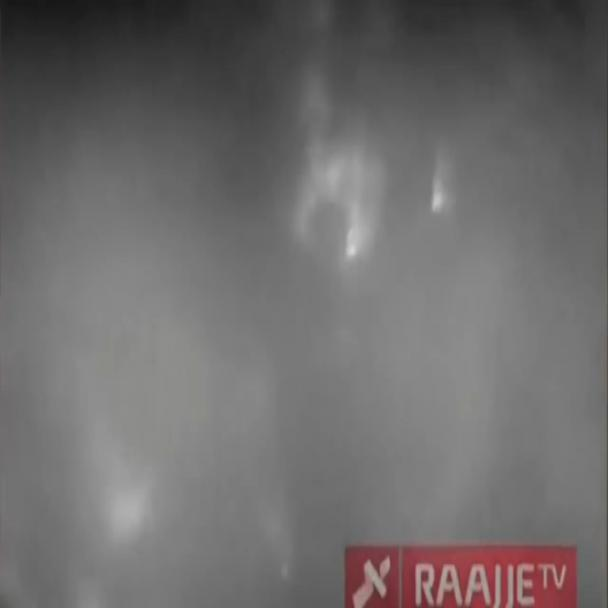smoke: (13, 45, 608, 607)
